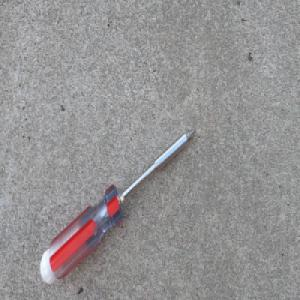Screwdriver: (39, 126, 197, 286)
